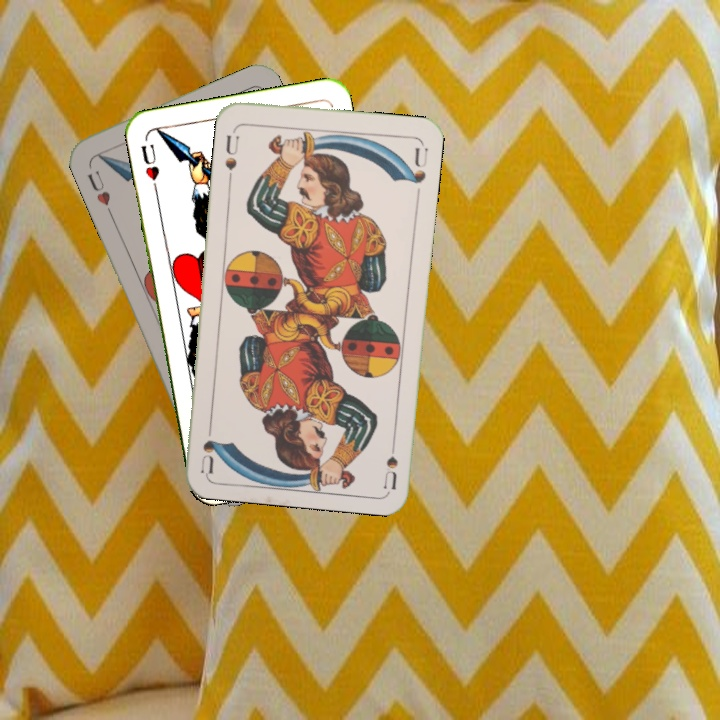HU: (137, 140, 162, 194), (83, 166, 113, 208)
SU: (379, 430, 401, 490), (220, 124, 242, 183)
